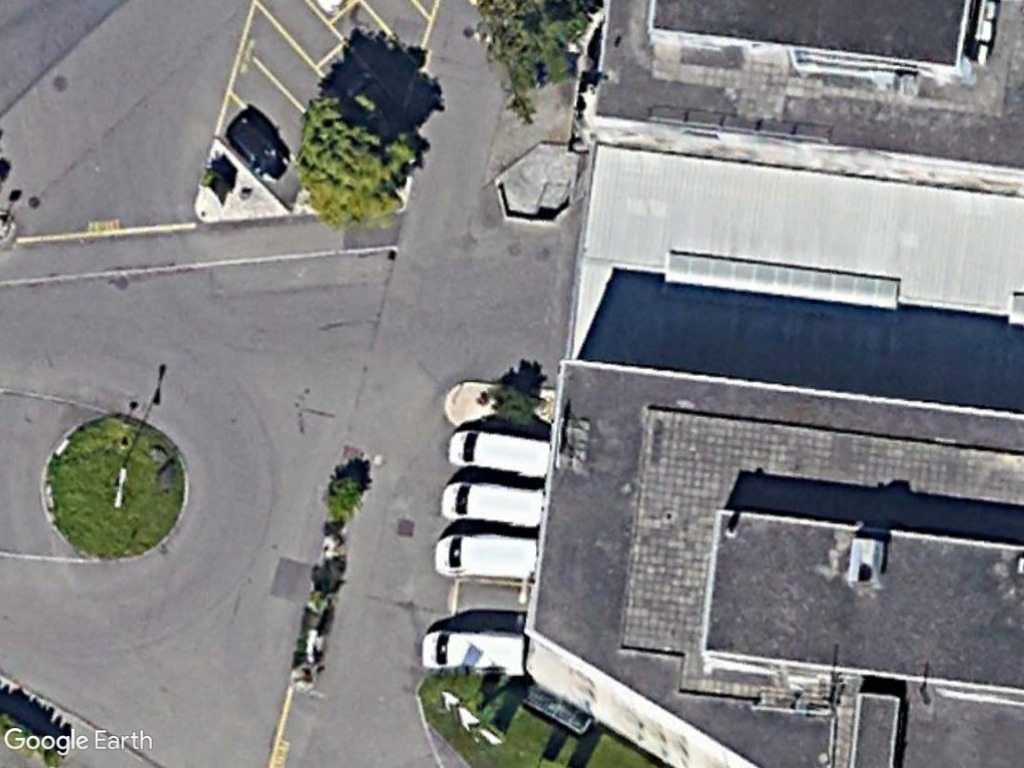van: (444, 423, 553, 478), (436, 476, 544, 530), (420, 627, 528, 677), (430, 530, 538, 579)
